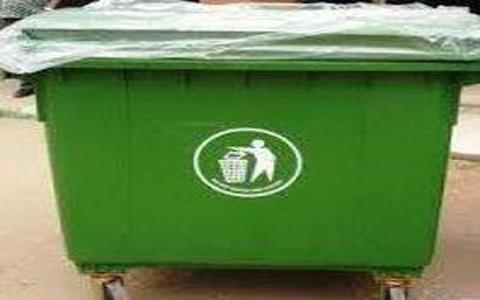Proper garbage: (1, 3, 478, 292)
